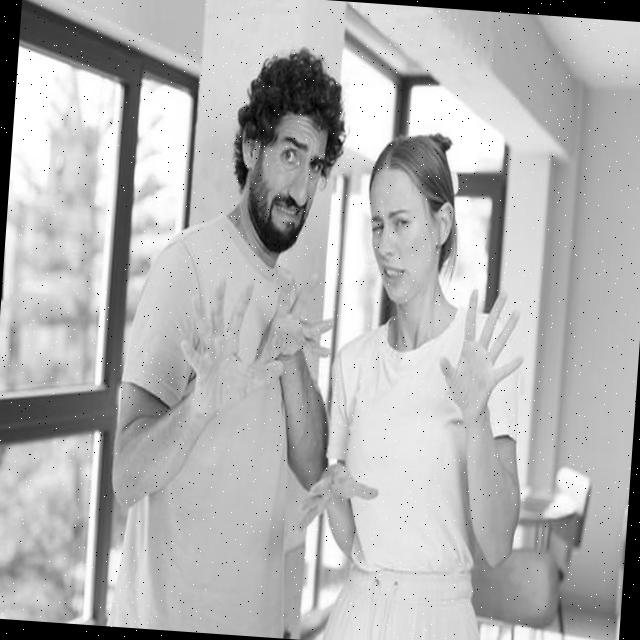Disgust: (243, 109, 327, 255), (362, 168, 443, 306)
